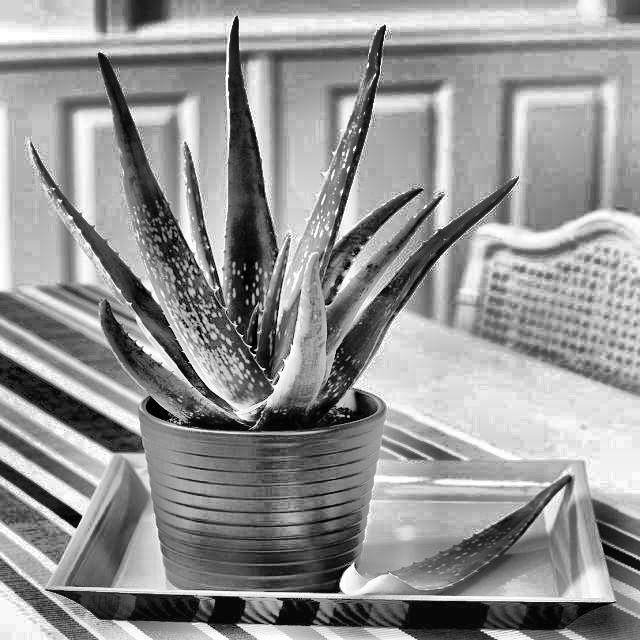plants: (39, 38, 447, 504)
